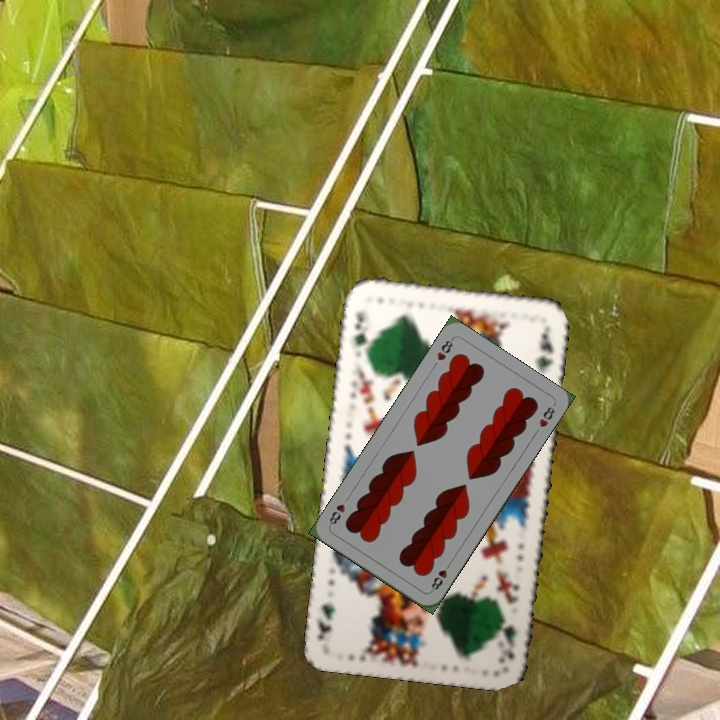GK: (495, 609, 519, 665), (350, 307, 372, 358)
H8: (427, 558, 454, 594), (433, 334, 456, 363)
